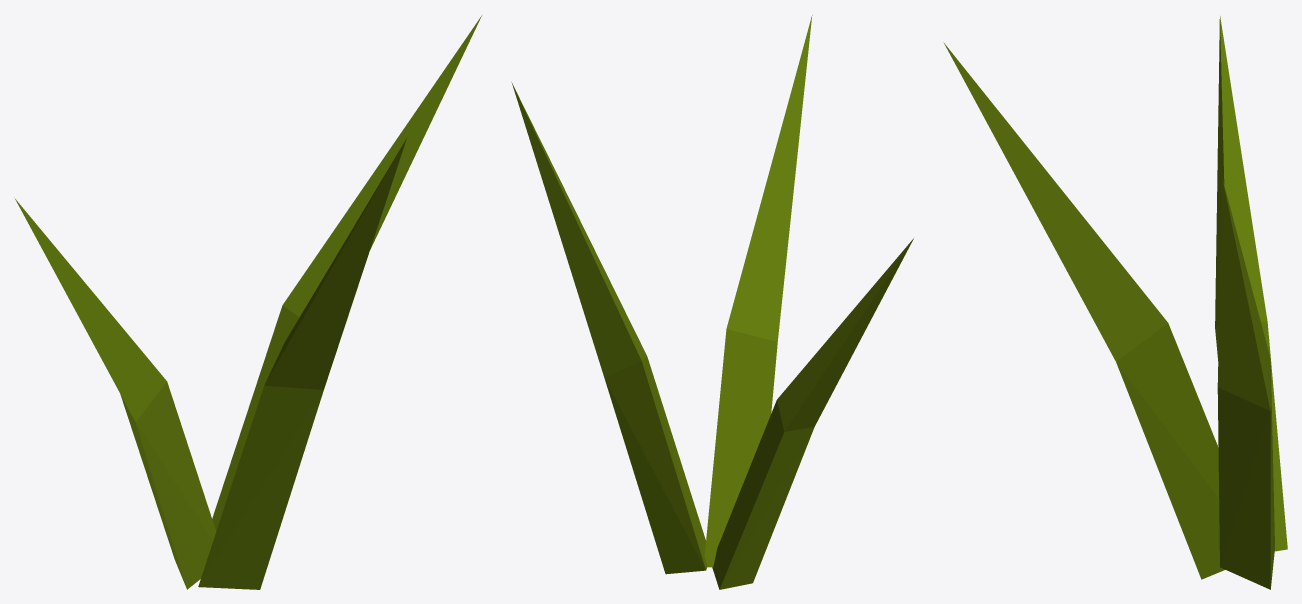
Rendered from SmallGrass.fbx.
The picture shows the model from 3 angles, left to right: view 1: azimuth 30°, elevation 25°; view 2: azimuth 150°, elevation 25°; view 3: azimuth 270°, elevation 25°; orthographic projection. The views are drawn at different scales.
Visible parts, largest first — view 1: SmallGrass; view 2: SmallGrass; view 3: SmallGrass.
Boxes of the visible parts, x1,y1,x2,y2 form: SmallGrass: (15,15,481,589); SmallGrass: (511,15,913,589); SmallGrass: (943,16,1287,589).
Size of the model in its own units: 44.86 by 49.41 by 28.19.
